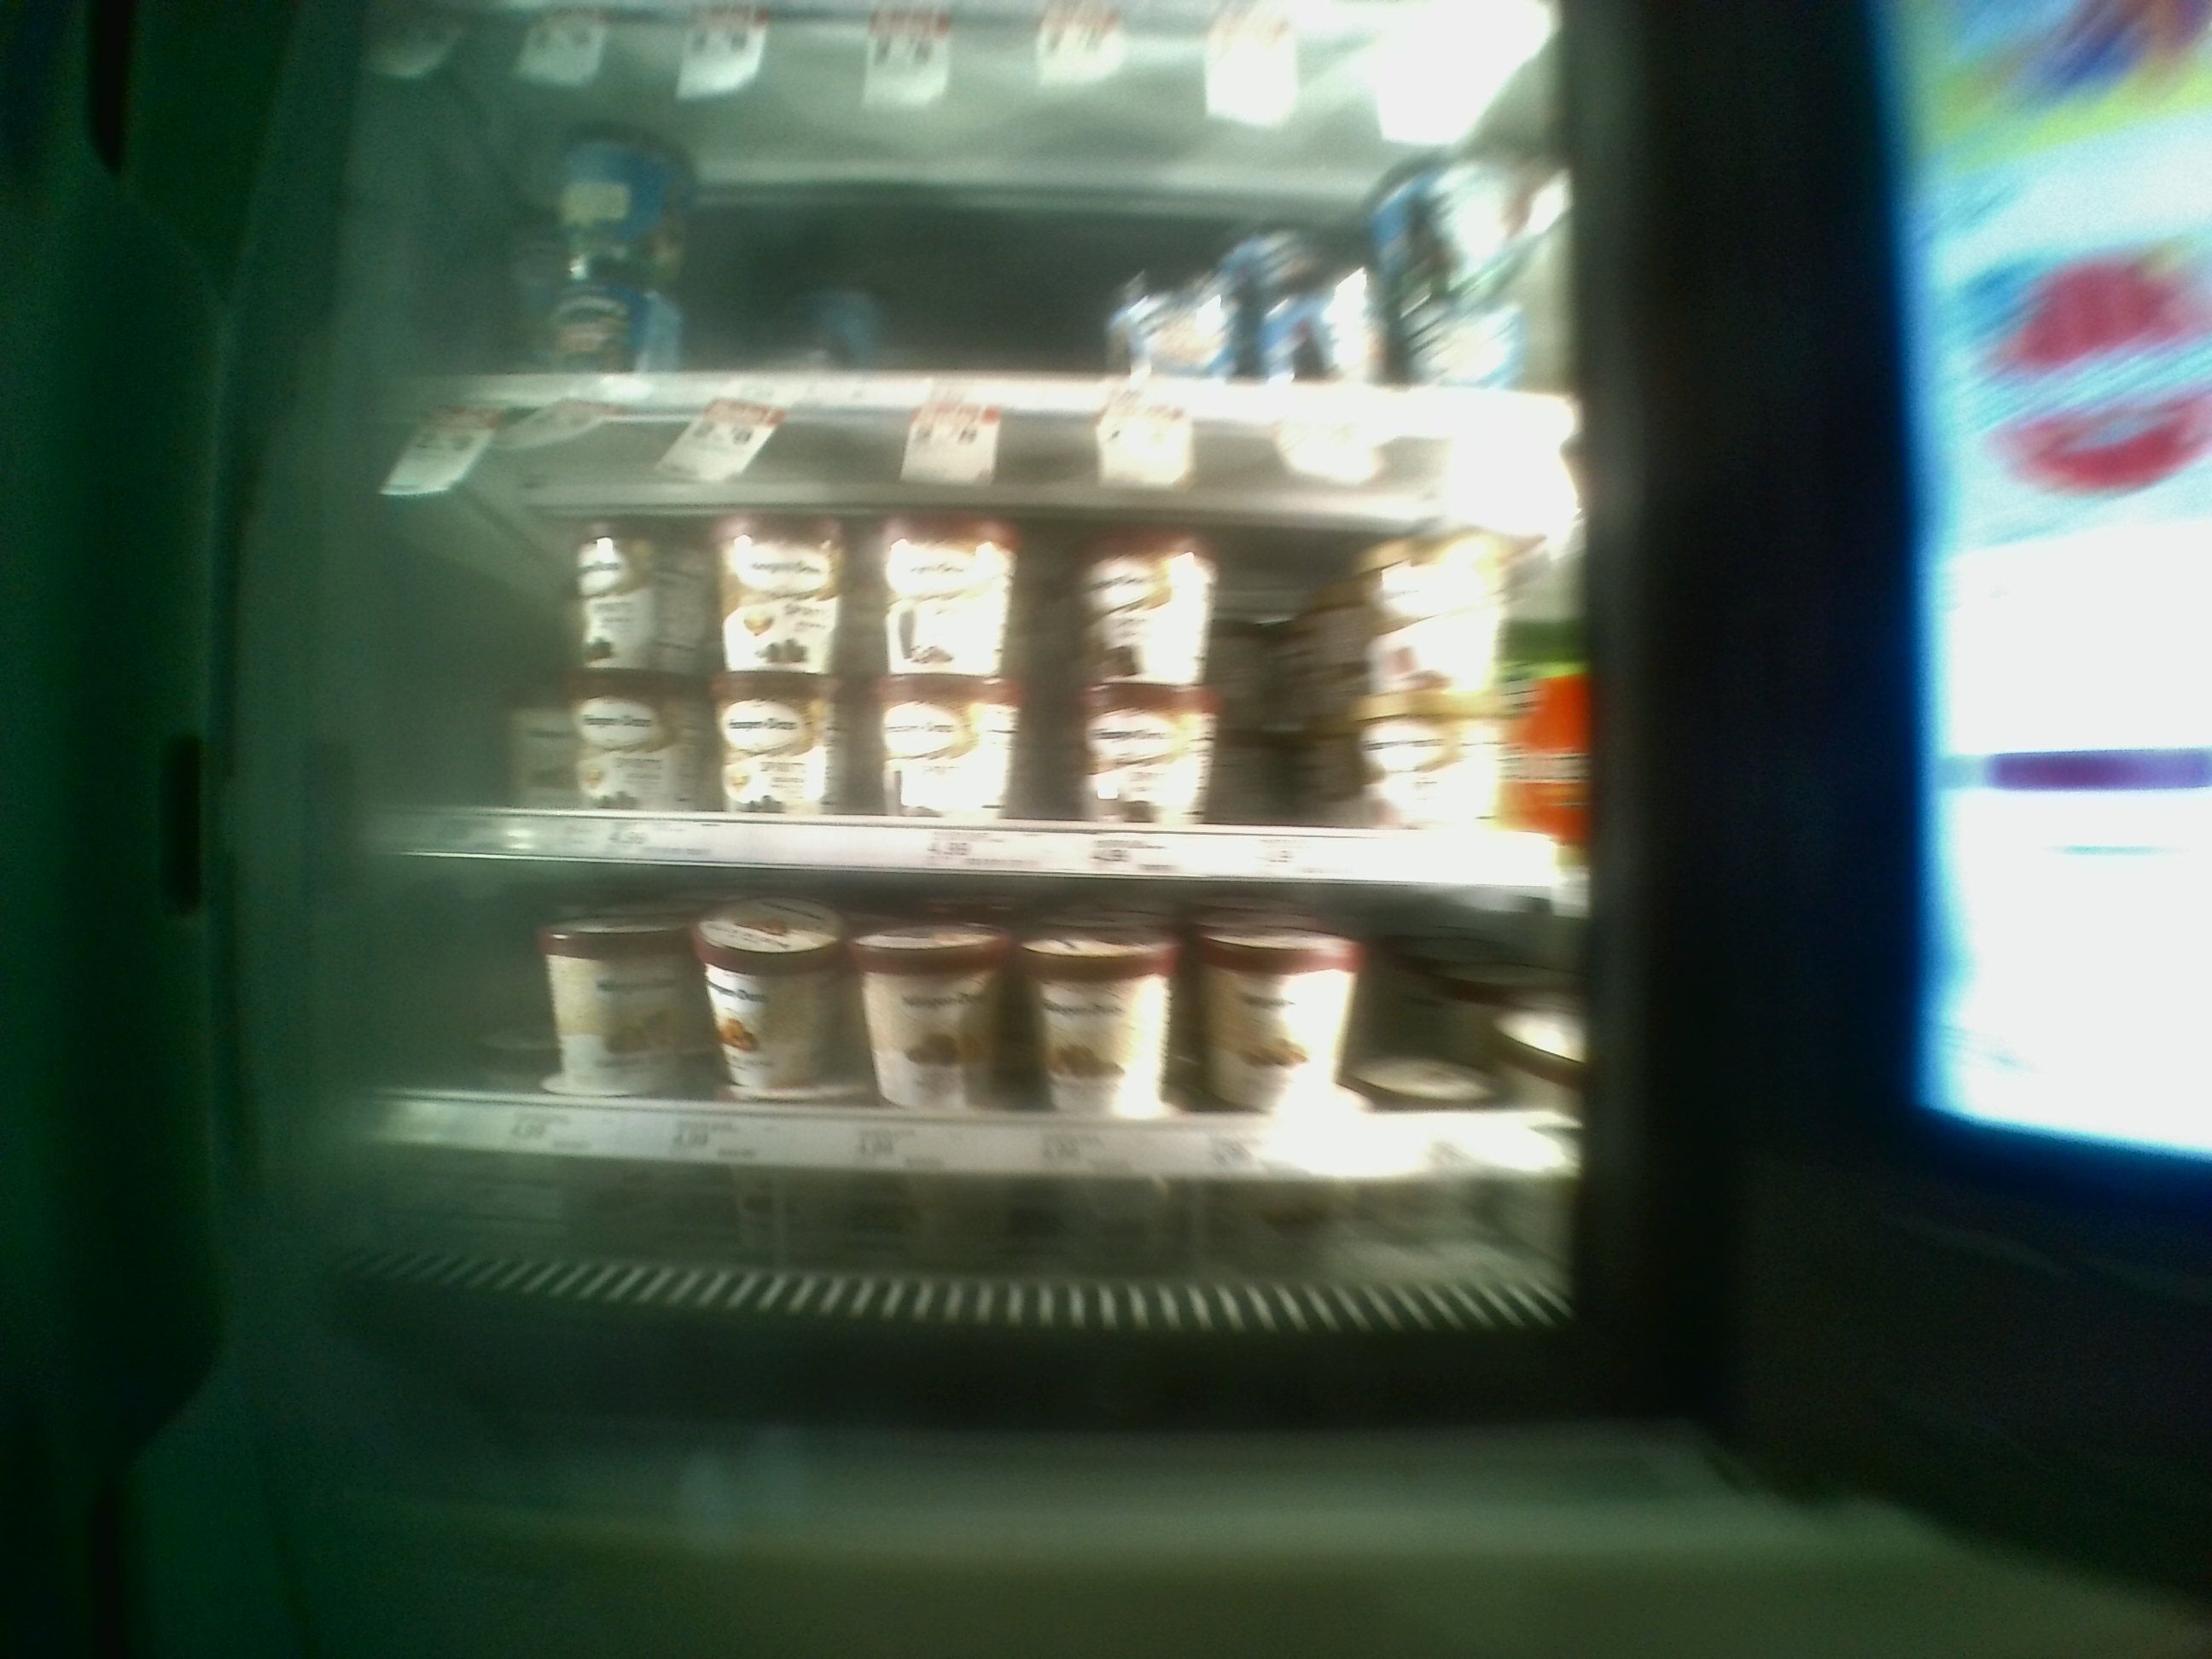shelf: (354, 415, 1595, 882), (334, 857, 1588, 1211)
